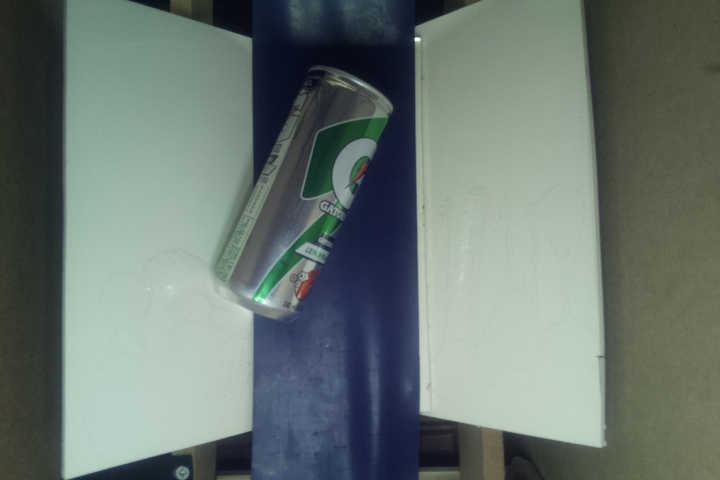can: (212, 61, 393, 322)
